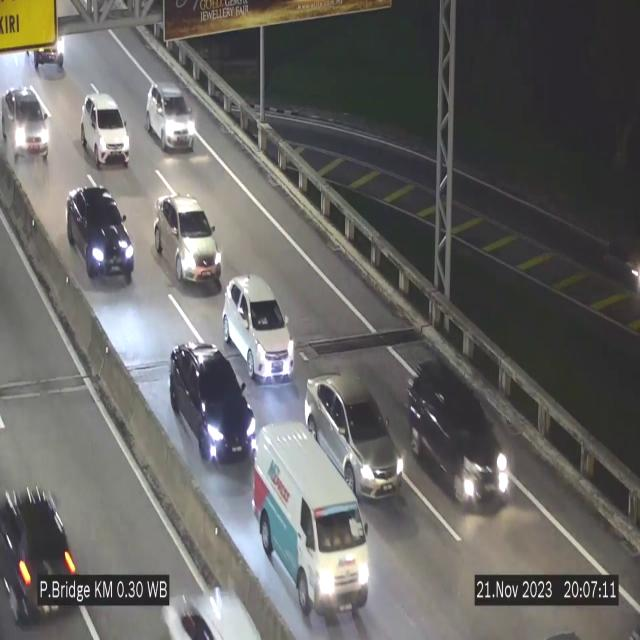Car: (253, 421, 369, 638), (406, 358, 511, 524), (0, 458, 80, 632), (169, 342, 257, 492), (305, 371, 403, 497), (158, 567, 262, 640), (223, 276, 295, 380), (67, 186, 133, 282), (167, 194, 222, 284), (0, 80, 56, 162), (81, 92, 129, 168), (146, 83, 195, 153)
